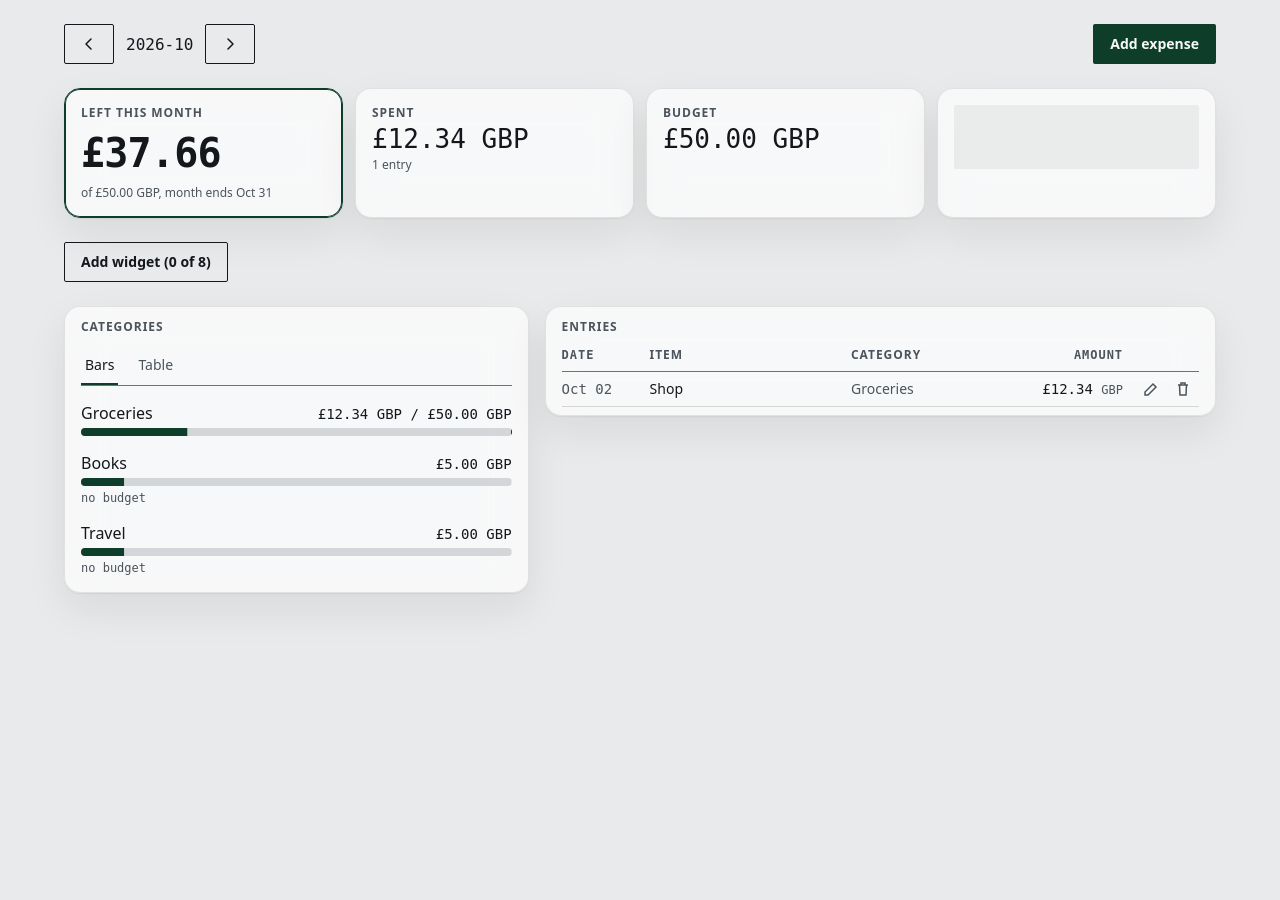
MonthView category rows (T032) › shows the category bars by default with the table one tab away, not stacked
Check: the element with class "desk-category-bars-row" that starts with "Groceries" is shown, box [81,402,512,436]
Check: the table is shown, box [562,339,1199,407]
Click the tab "Table".
click(156, 366)  # box [134,347,177,385]
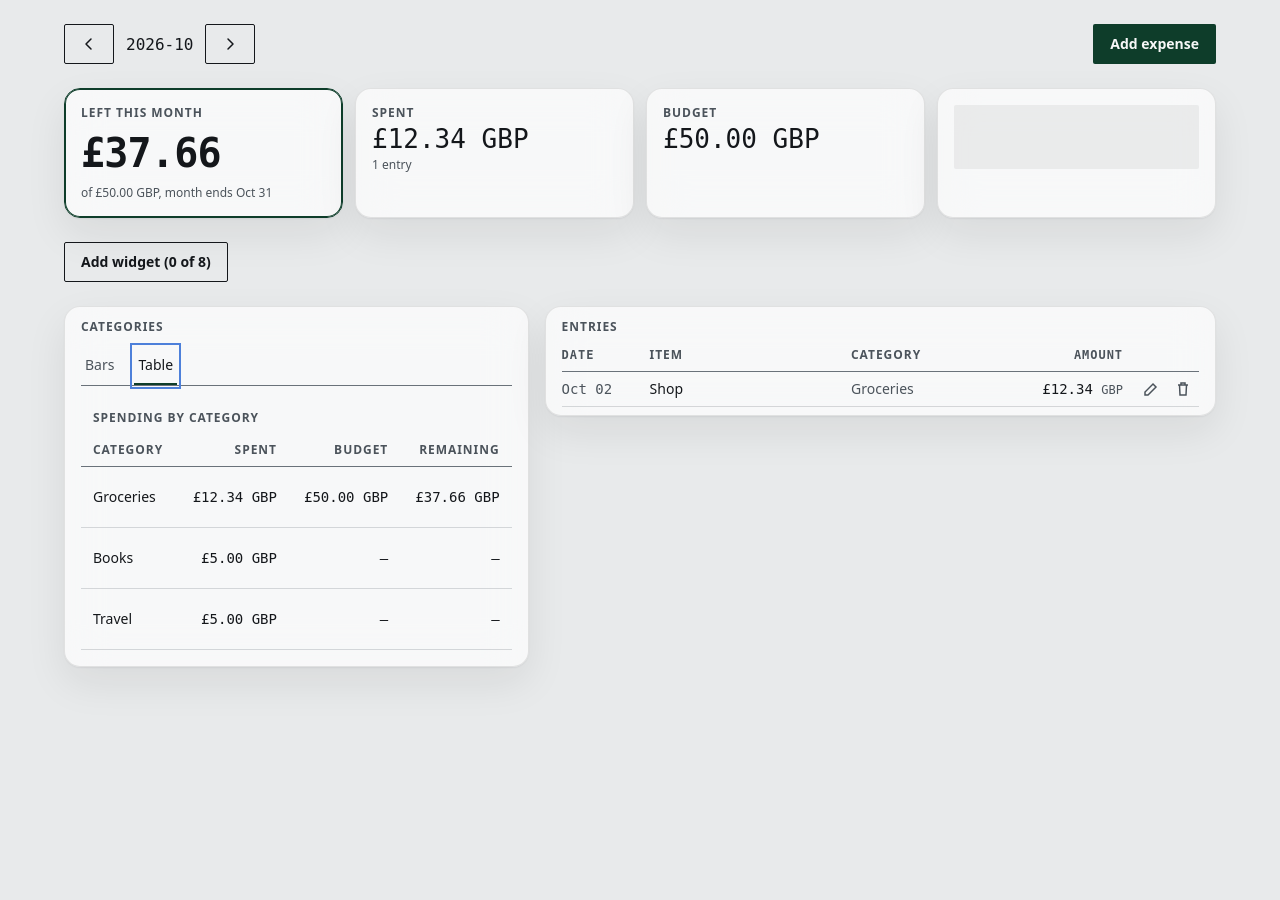
Check: the table that starts with "Spending by category" is shown, box [81,402,512,650]
Check: the element with class "desk-category-bars-row" is gone
